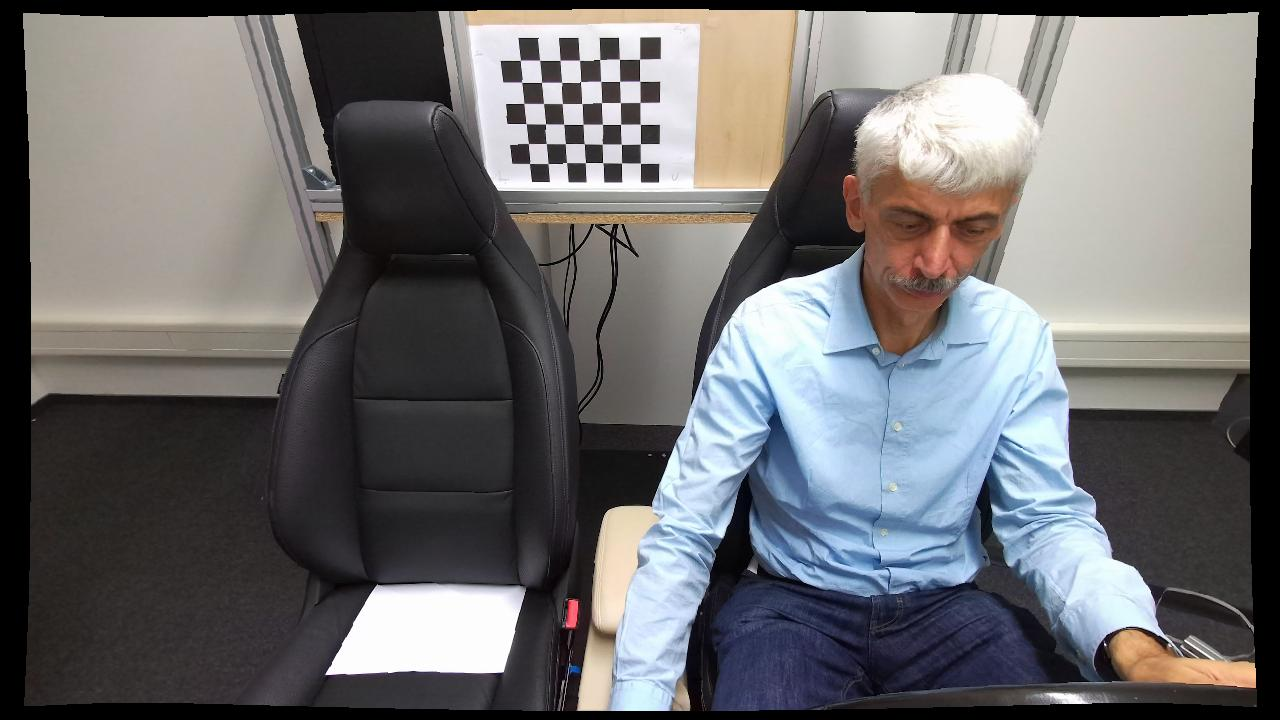Distracted: (606, 57, 1153, 714)
